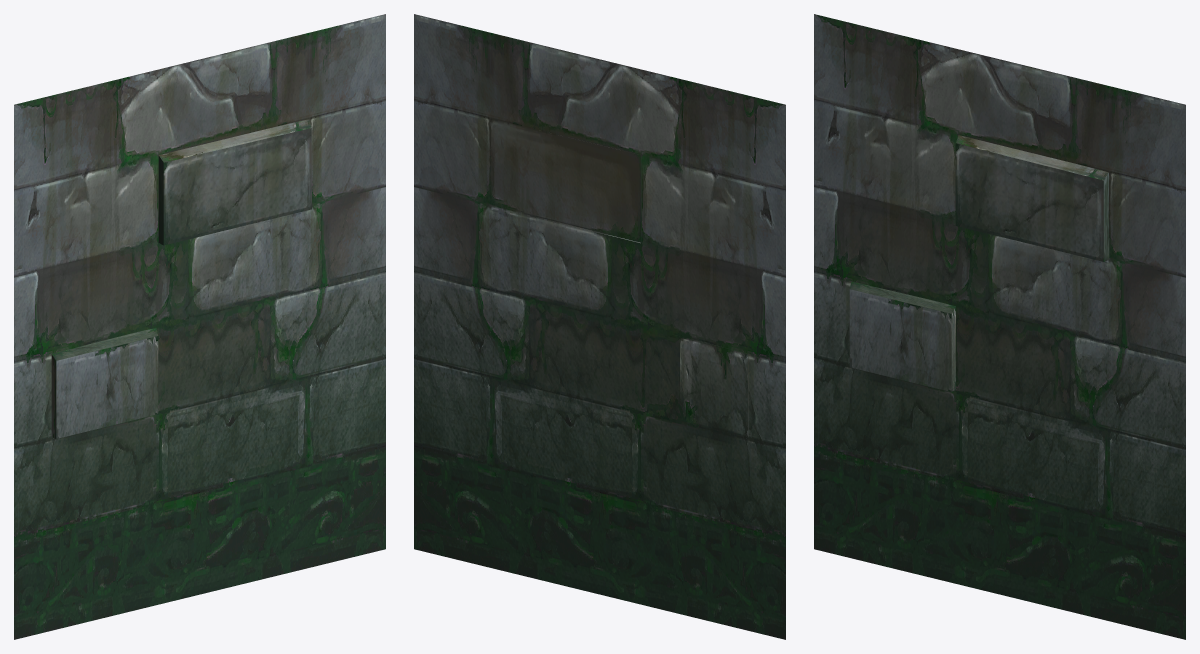
Rendered from stemple_wall_straight_07.fbx.
The picture shows the model from 3 angles, left to right: view 1: azimuth 30°, elevation 25°; view 2: azimuth 150°, elevation 25°; view 3: azimuth 330°, elevation 25°; orthographic projection.
Parts seen in each view (by area): view 1: stemple_wall_straight_07-0; view 2: stemple_wall_straight_07-0; view 3: stemple_wall_straight_07-0.
Part boxes in pixels (<box>): stemple_wall_straight_07-0: <box>14,14,385,639</box>; stemple_wall_straight_07-0: <box>414,14,785,639</box>; stemple_wall_straight_07-0: <box>814,14,1185,639</box>.
Size of the model in its own units: 4 by 5.5 by 0.0884.
